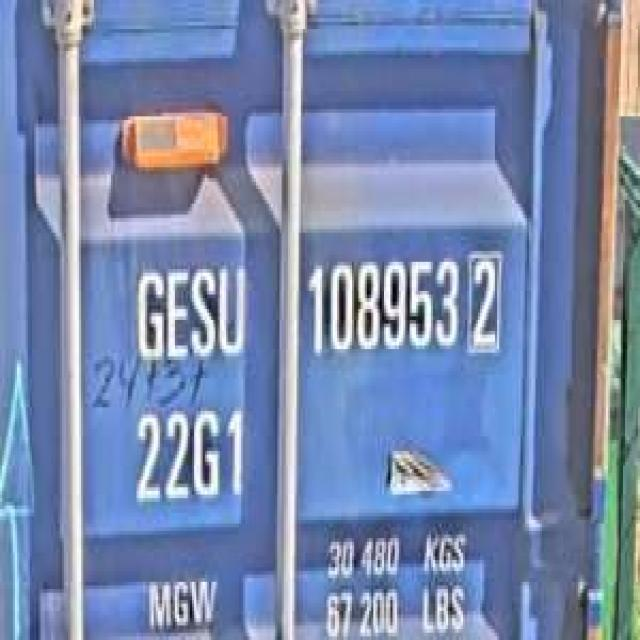dv: (465, 240, 506, 357)
owner: (130, 255, 250, 367)
serial: (301, 247, 462, 364)
size: (128, 396, 250, 509)
